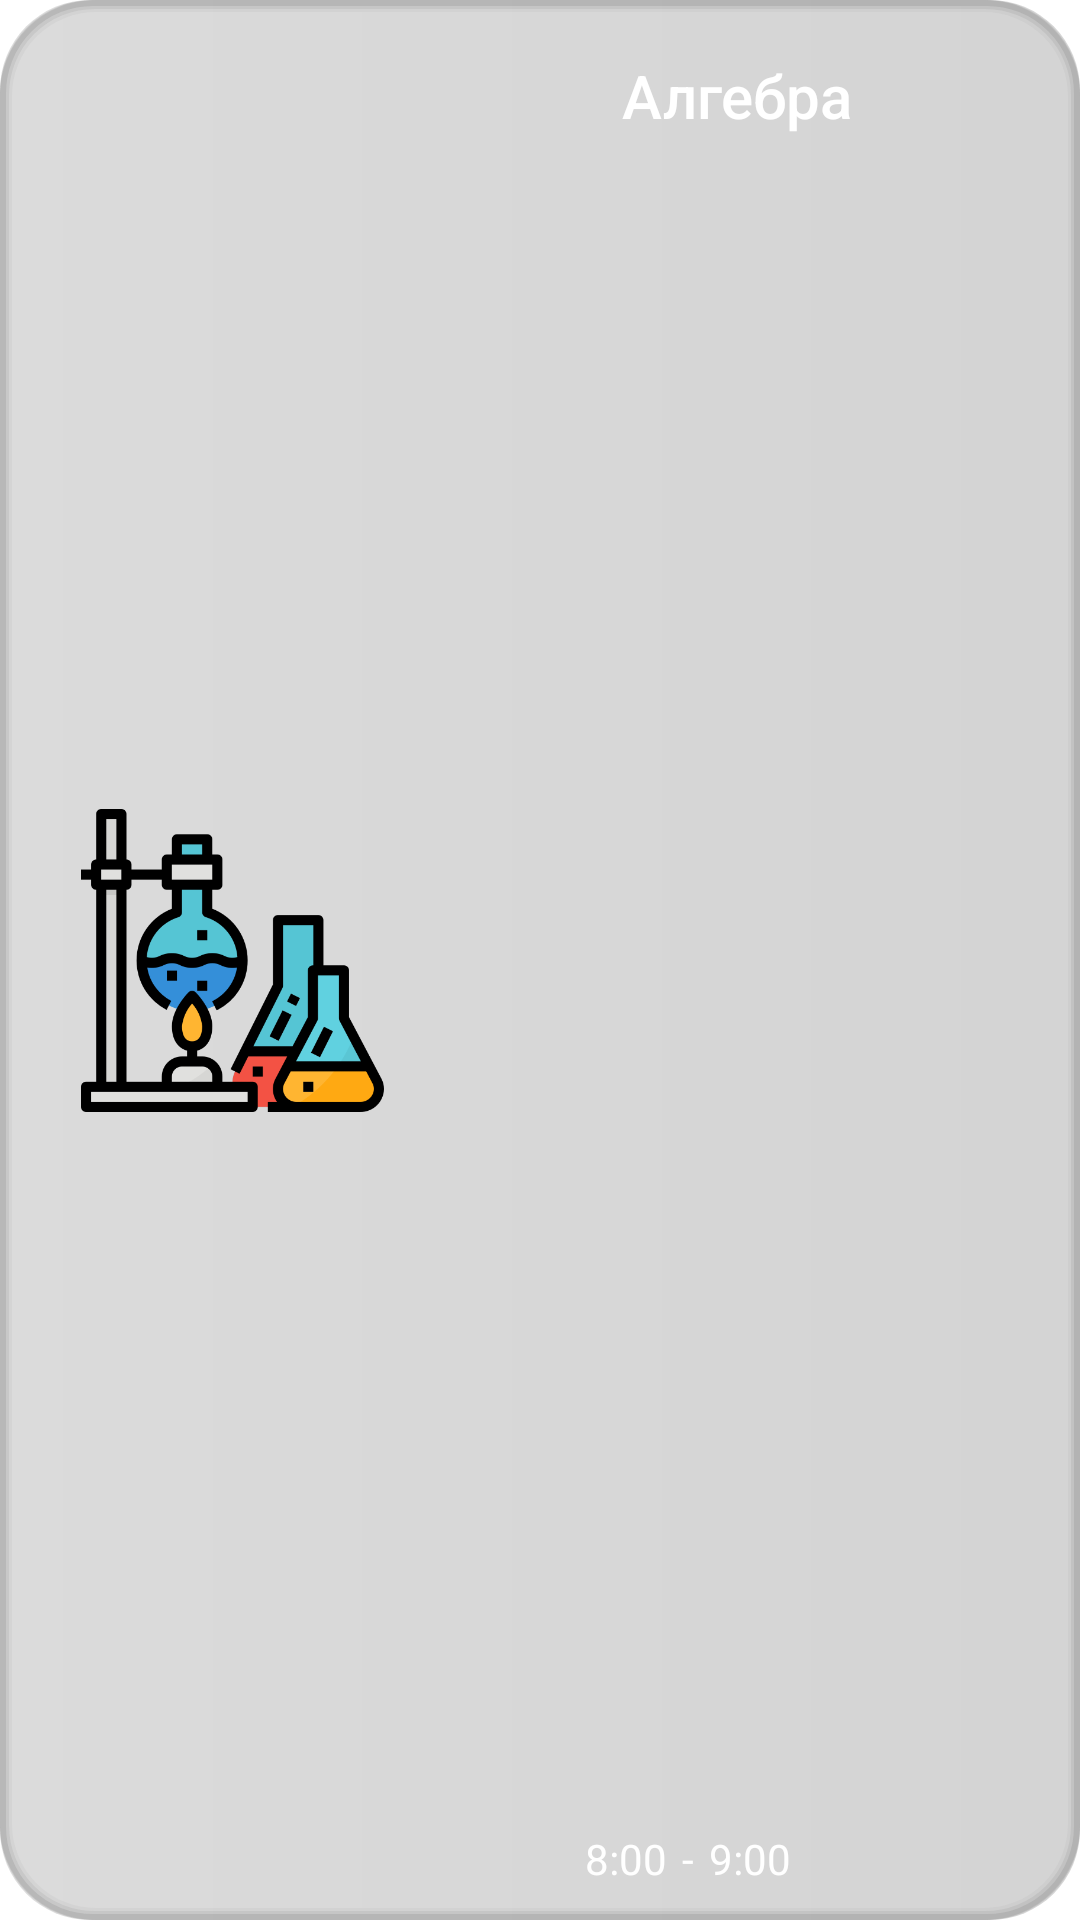

Named icons in this screenshot (1080×1920) and their centers, (x=x, y=y):
chemistry: (x=232, y=960)
